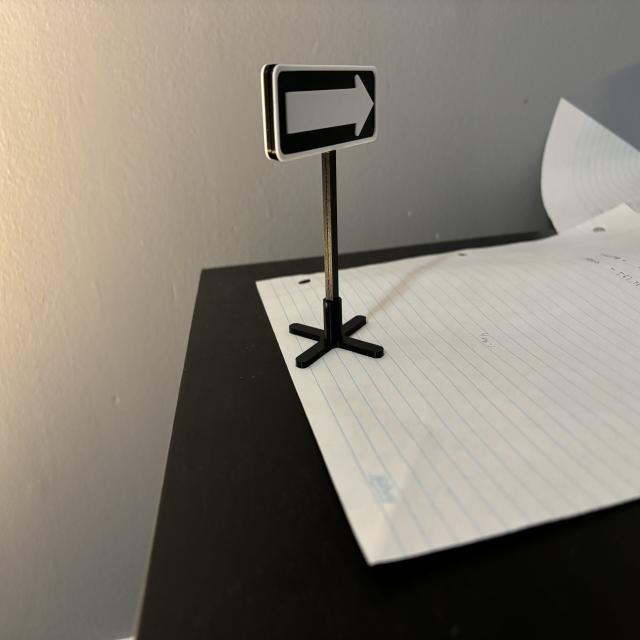sign_oneway_right: (275, 66, 380, 163)
